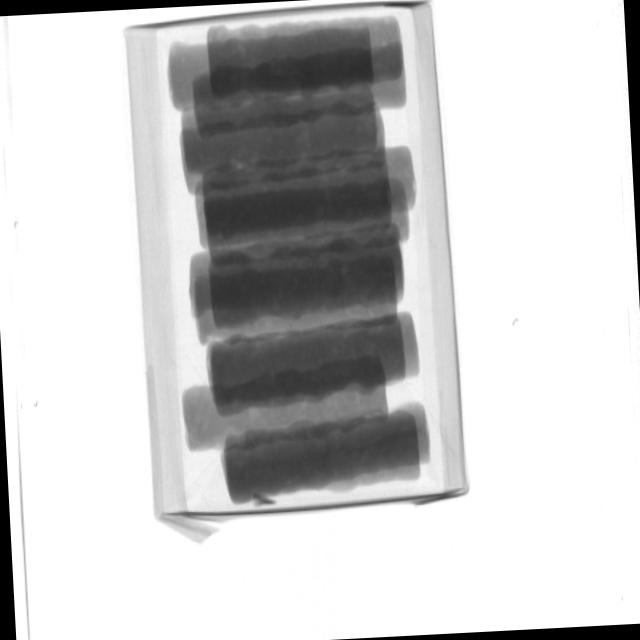ym: (255, 493, 278, 507)
